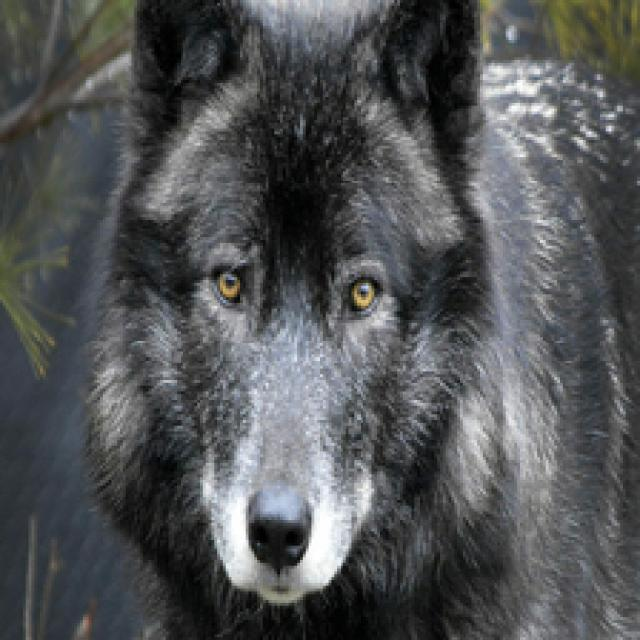wolf: (86, 0, 631, 640)
